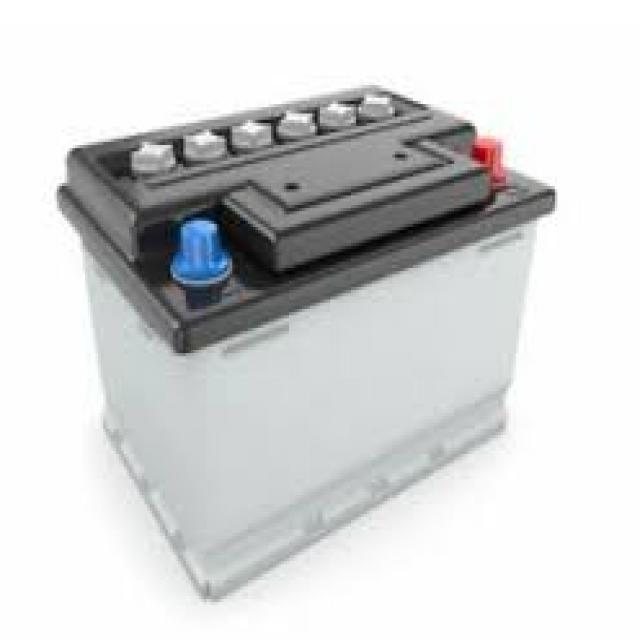non-organic waste: (55, 75, 558, 604)
